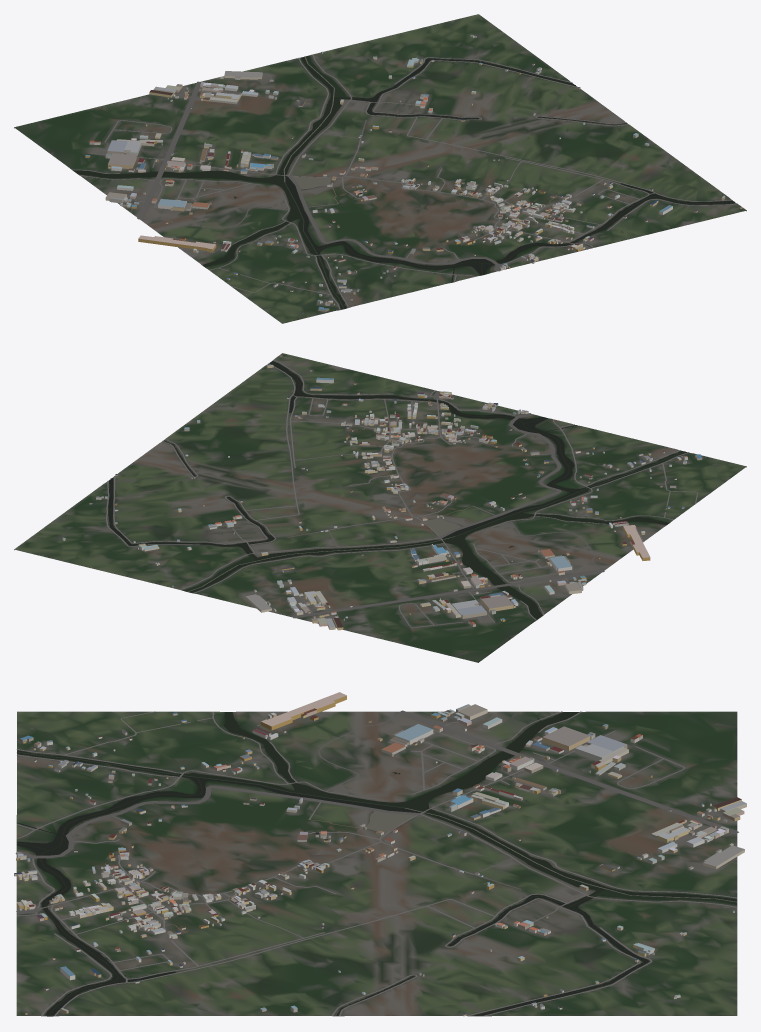
The picture shows the model from 3 angles, top to bottom: view 1: azimuth 30°, elevation 25°; view 2: azimuth 150°, elevation 25°; view 3: azimuth 270°, elevation 25°; orthographic projection. The views are drawn at different scales.
Parts seen in each view (by area): view 1: ground, buildings, water, roads; view 2: ground, buildings, water, roads; view 3: ground, buildings, water, roads.
Boxes of the visible parts, x1,y1,x2,y2 form: ground: (14, 14, 746, 323); buildings: (85, 35, 742, 311); water: (73, 55, 735, 309); roads: (72, 54, 737, 309); ground: (14, 353, 746, 662); buildings: (62, 355, 702, 630); water: (108, 361, 687, 619); roads: (106, 359, 698, 627); ground: (16, 711, 737, 1016); buildings: (14, 692, 746, 1016); water: (17, 712, 736, 1016); roads: (15, 710, 738, 1016).
Bounding box in the file's own units: 1473 × 14.57 × 1425.
